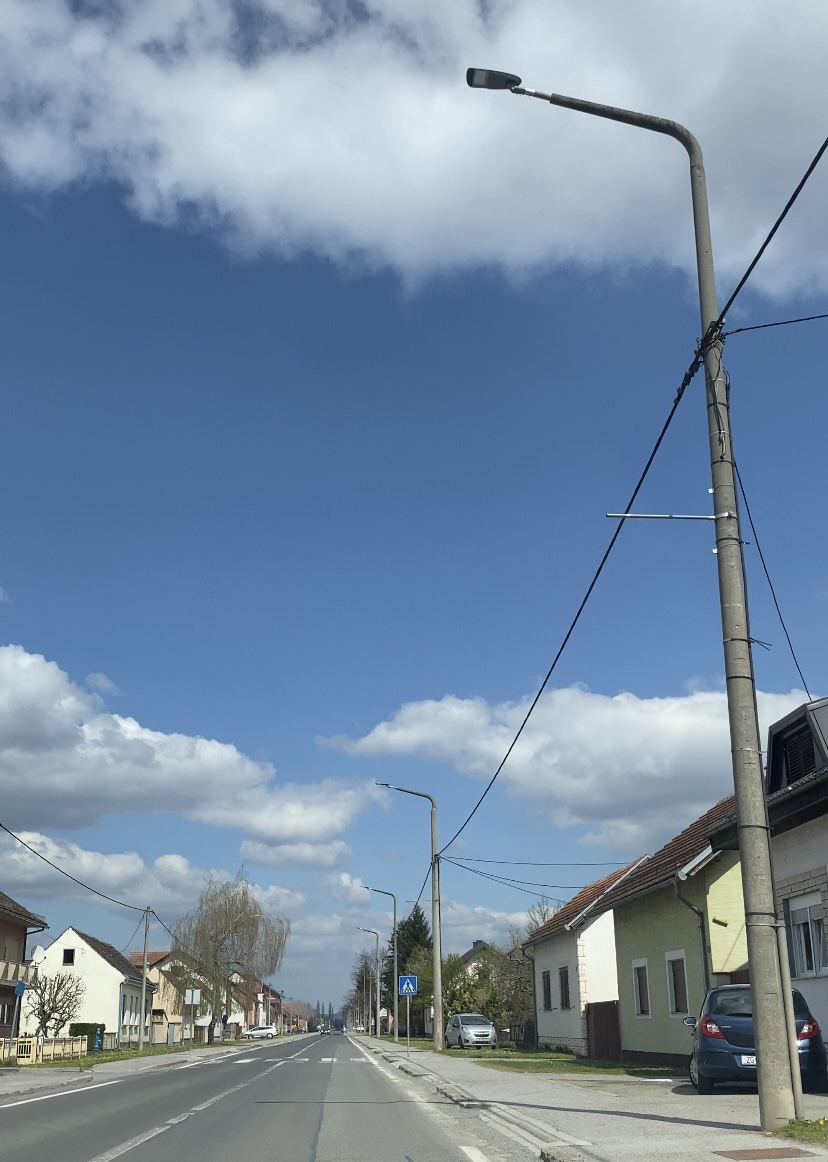Pješački prijelaz: (398, 975, 418, 995)
